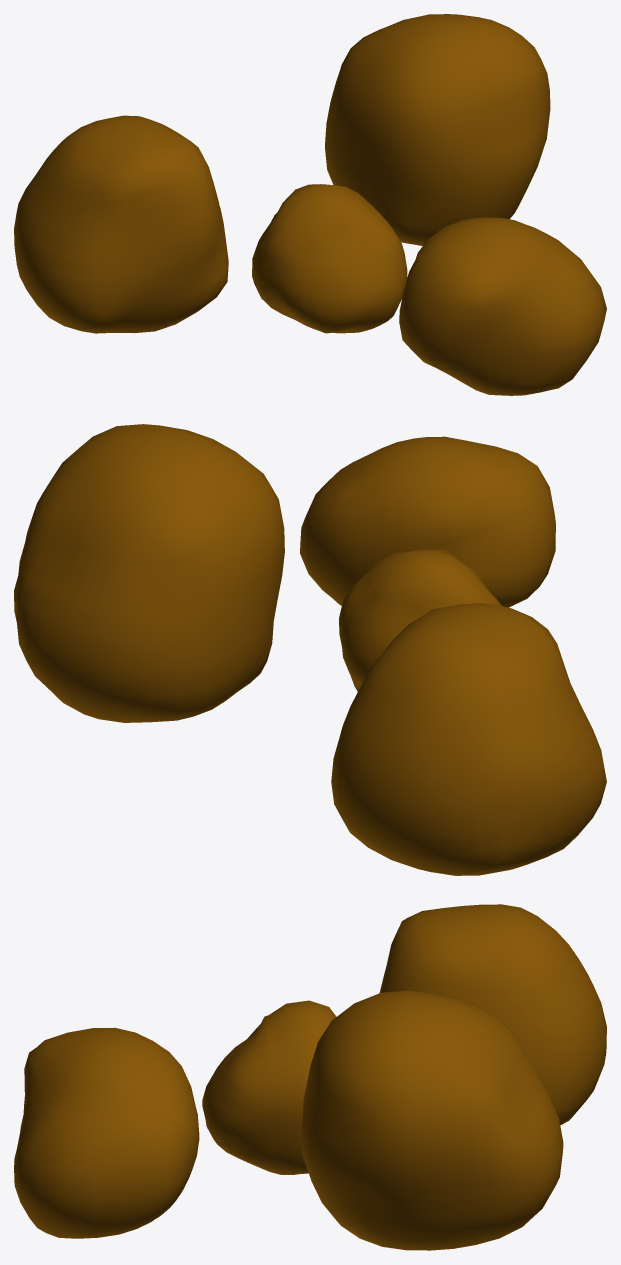
File: cave rock.fbx
The picture shows the model from 3 angles, top to bottom: view 1: azimuth 30°, elevation 25°; view 2: azimuth 150°, elevation 25°; view 3: azimuth 270°, elevation 25°; orthographic projection. The views are drawn at different scales.
Visible parts, largest first — view 1: Rock04, Rock03, Rock02, Rock01; view 2: Rock04, Rock03, Rock02, Rock01; view 3: Rock04, Rock02, Rock03, Rock01.
Part boxes in pixels (box(x1,y1,x2,y2)): Rock04: box(325, 14, 550, 245); Rock03: box(14, 115, 228, 333); Rock02: box(399, 217, 606, 395); Rock01: box(252, 184, 407, 333); Rock04: box(14, 424, 284, 722); Rock03: box(331, 603, 606, 875); Rock02: box(300, 436, 555, 607); Rock01: box(339, 548, 501, 691); Rock04: box(300, 990, 563, 1250); Rock02: box(14, 1027, 199, 1238); Rock03: box(379, 904, 606, 1125); Rock01: box(202, 1000, 336, 1174).
Bounding box in the file's own units: 49.16 × 24.78 × 47.75.
